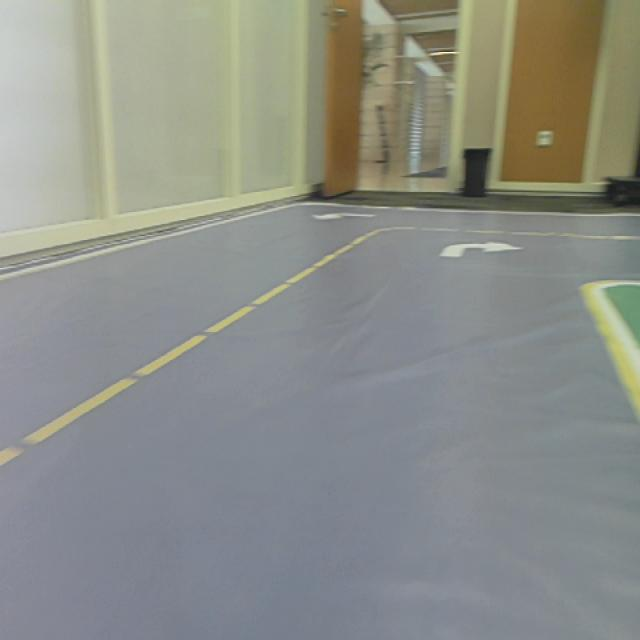left_lane: (0, 231, 372, 466)
right_lane: (582, 293, 640, 429)
